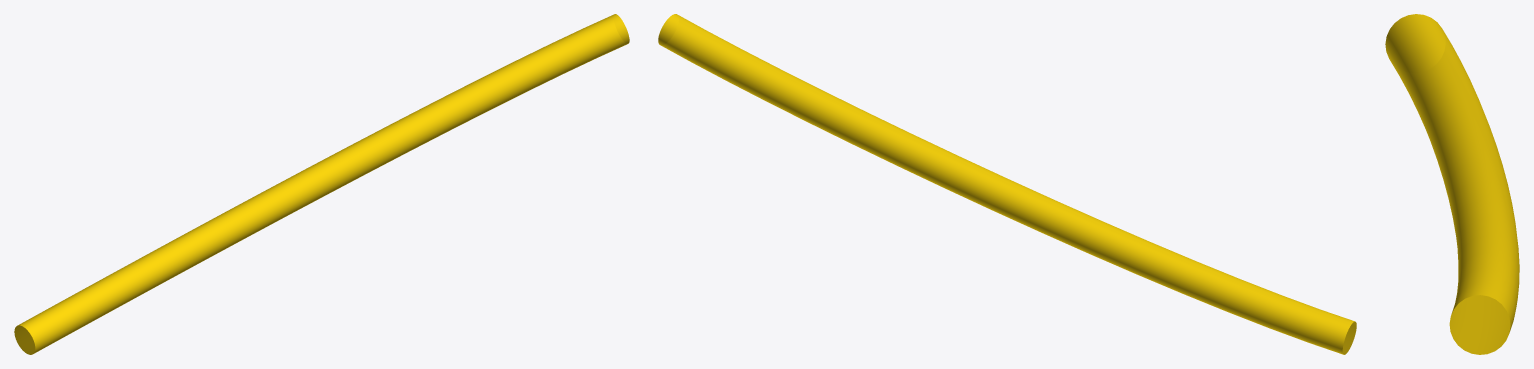
The model's file is Event_420094457_track_80.fbx.
3 views of the same model, side by side, from view 1: azimuth 30°, elevation 25°; view 2: azimuth 150°, elevation 25°; view 3: azimuth 270°, elevation 25° (orthographic). The views are drawn at different scales.
Parts seen in each view (by area): view 1: Model; view 2: Model; view 3: Model.
Boxes of the visible parts, x1,y1,x2,y2 form: Model: [14, 14, 629, 354]; Model: [658, 14, 1356, 354]; Model: [1385, 14, 1519, 354].
Bounding box in the file's own units: 0.8752 × 0.2395 × 0.0878.
